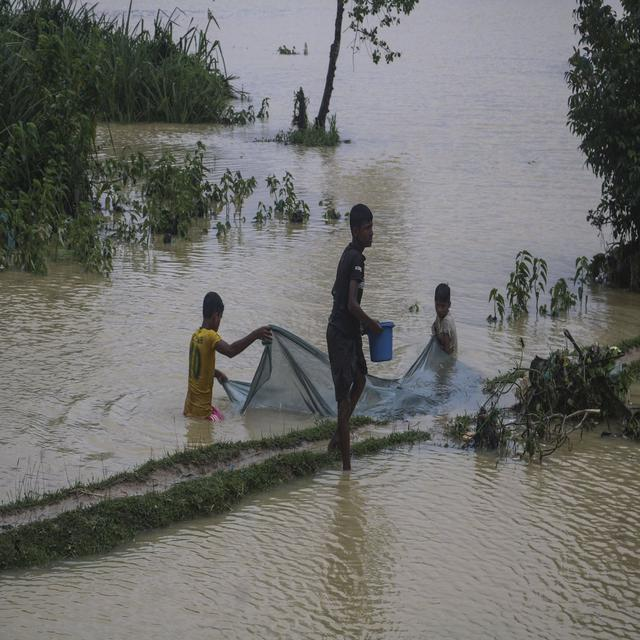Person-RiskLevel2: (323, 193, 398, 482)
Person-RiskLevel3: (166, 285, 267, 436), (420, 278, 490, 394)
